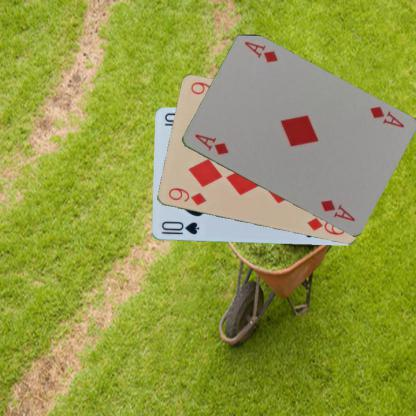10s: (158, 219, 200, 236)
9d: (166, 185, 208, 207)
Ad: (366, 104, 406, 130), (192, 131, 230, 157)
